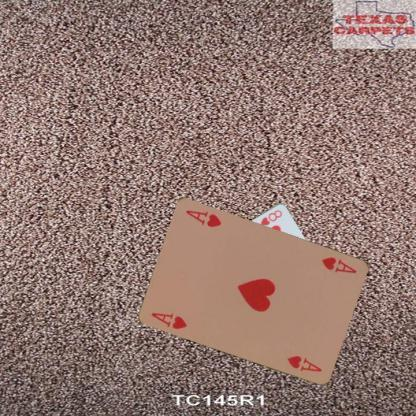8h: (258, 206, 284, 226)
Ah: (318, 254, 359, 274), (148, 310, 189, 330)
